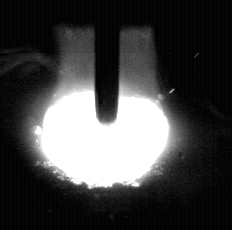arame: (95, 0, 120, 126)
poca: (41, 0, 169, 230)
